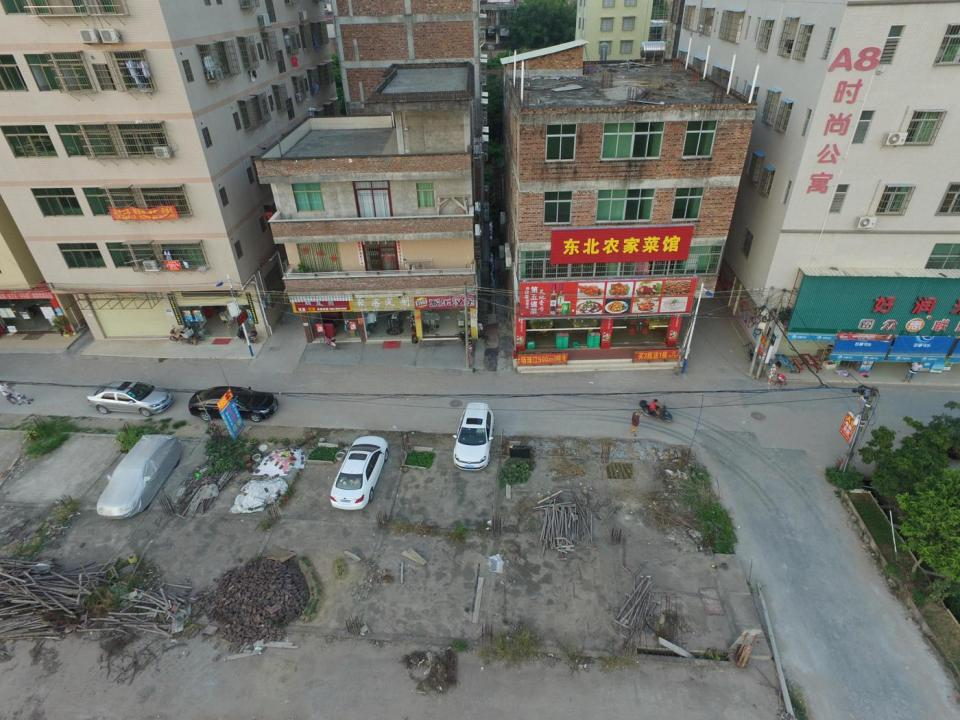car: (97, 433, 181, 518), (330, 435, 390, 511), (188, 384, 278, 420), (85, 382, 174, 415), (452, 402, 493, 470)
